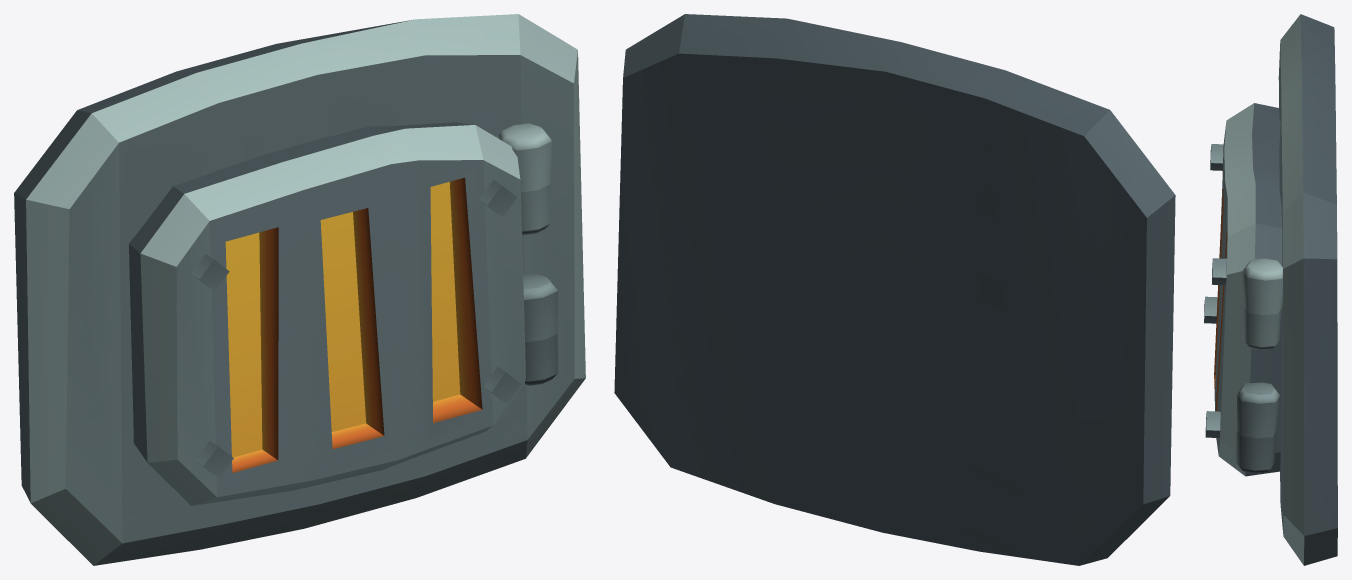
File: oven_door_small.fbx
The picture shows the model from 3 angles, left to right: view 1: azimuth 30°, elevation 25°; view 2: azimuth 150°, elevation 25°; view 3: azimuth 270°, elevation 25°; orthographic projection. The views are drawn at different scales.
Parts seen in each view (by area): view 1: oven_door_small; view 2: oven_door_small; view 3: oven_door_small.
Part boxes in pixels (bbox=[...]): oven_door_small: bbox=[14, 14, 585, 565]; oven_door_small: bbox=[614, 14, 1175, 565]; oven_door_small: bbox=[1204, 14, 1337, 565].
Bounding box in the file's own units: 194 × 160 × 48.23.
